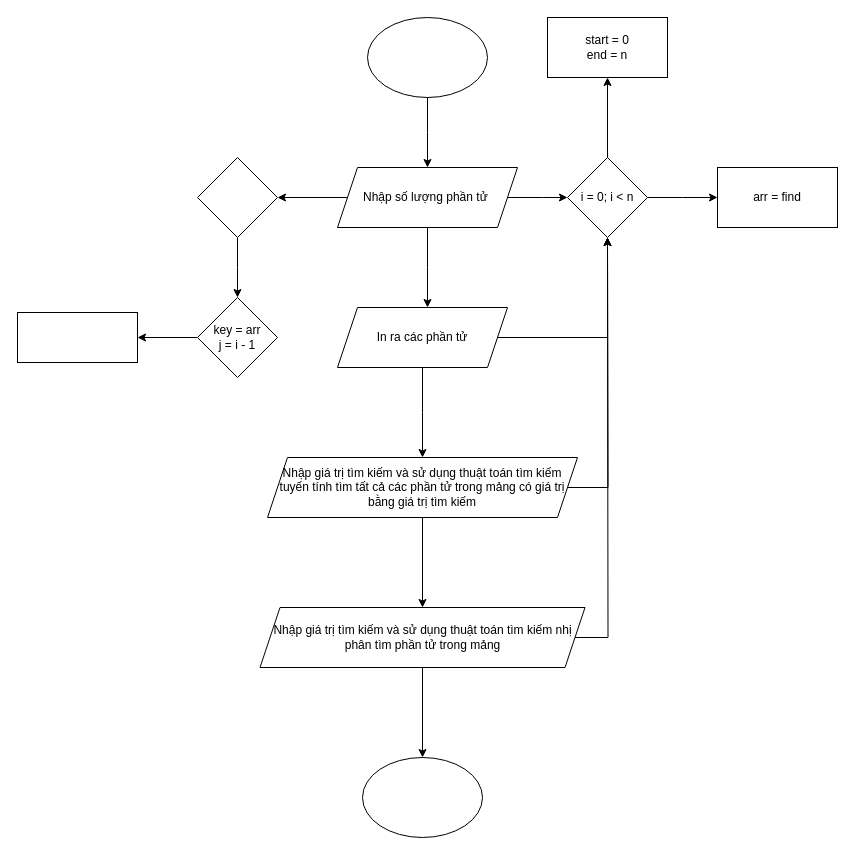
This 855x855 diagram has some shape labels left out. Here are the shapes that lost their labels. From the top down, the centre of each, then its label:
point (427, 57): start
point (237, 197): i = 1; i < n
point (77, 337): j >= 0 key = arr
point (422, 797): End
